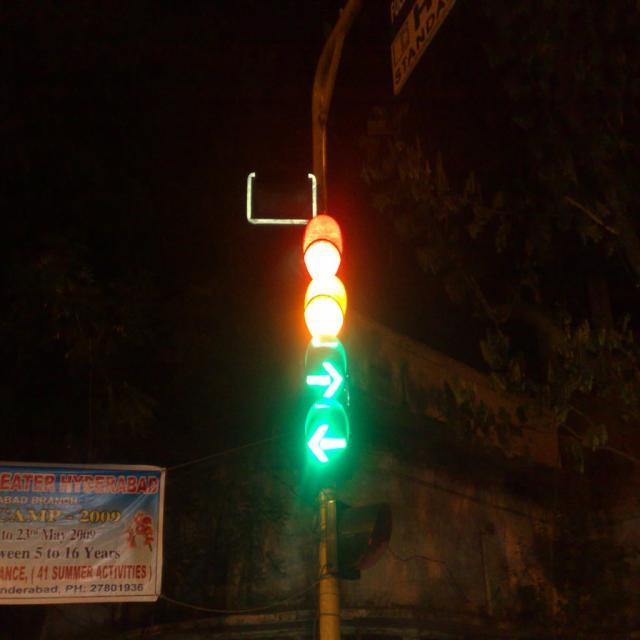traffic light: (296, 215, 351, 480)
